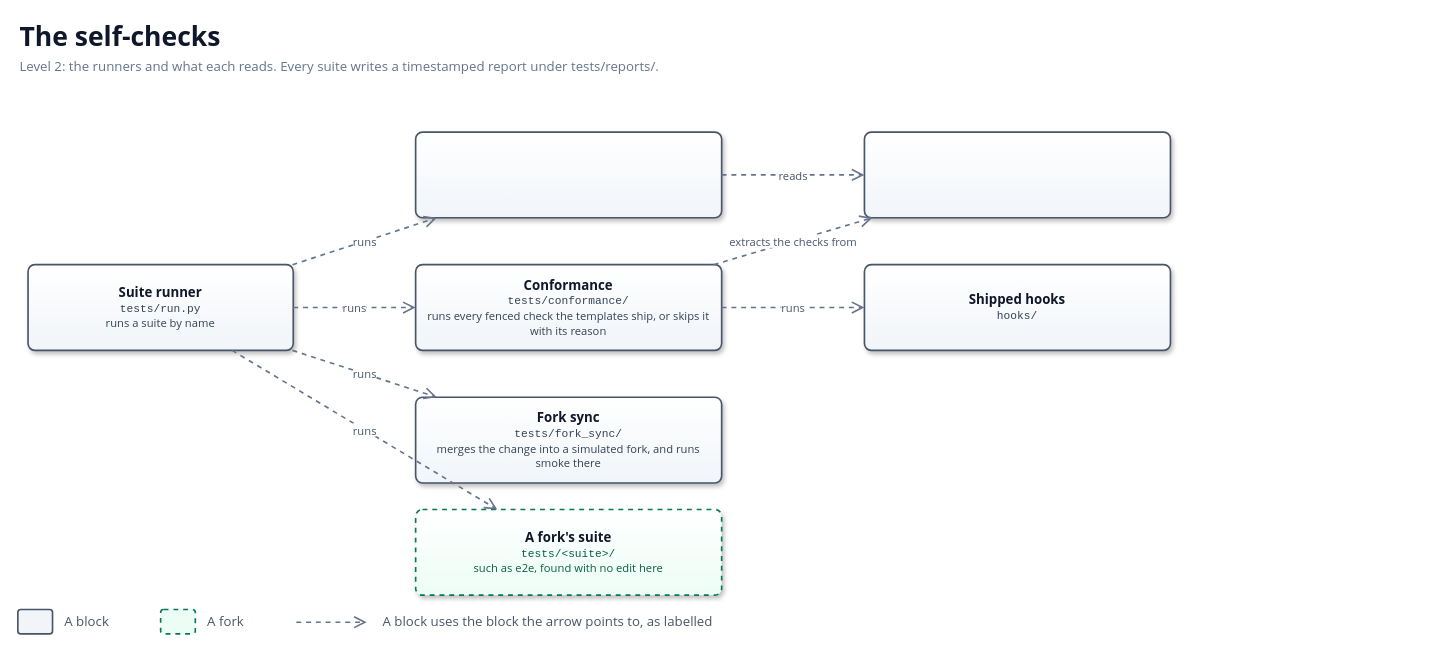
Some shapes in this 1443 by 652 pixel diagram are drawn without their labels. Here are the shapes that lost their labels. From the top down, the centre of each, then its label:
the point at 569,176: Smoke tests/smoke/ structure and resolution, one module per family
the point at 1018,176: Manifest and templates templates/
